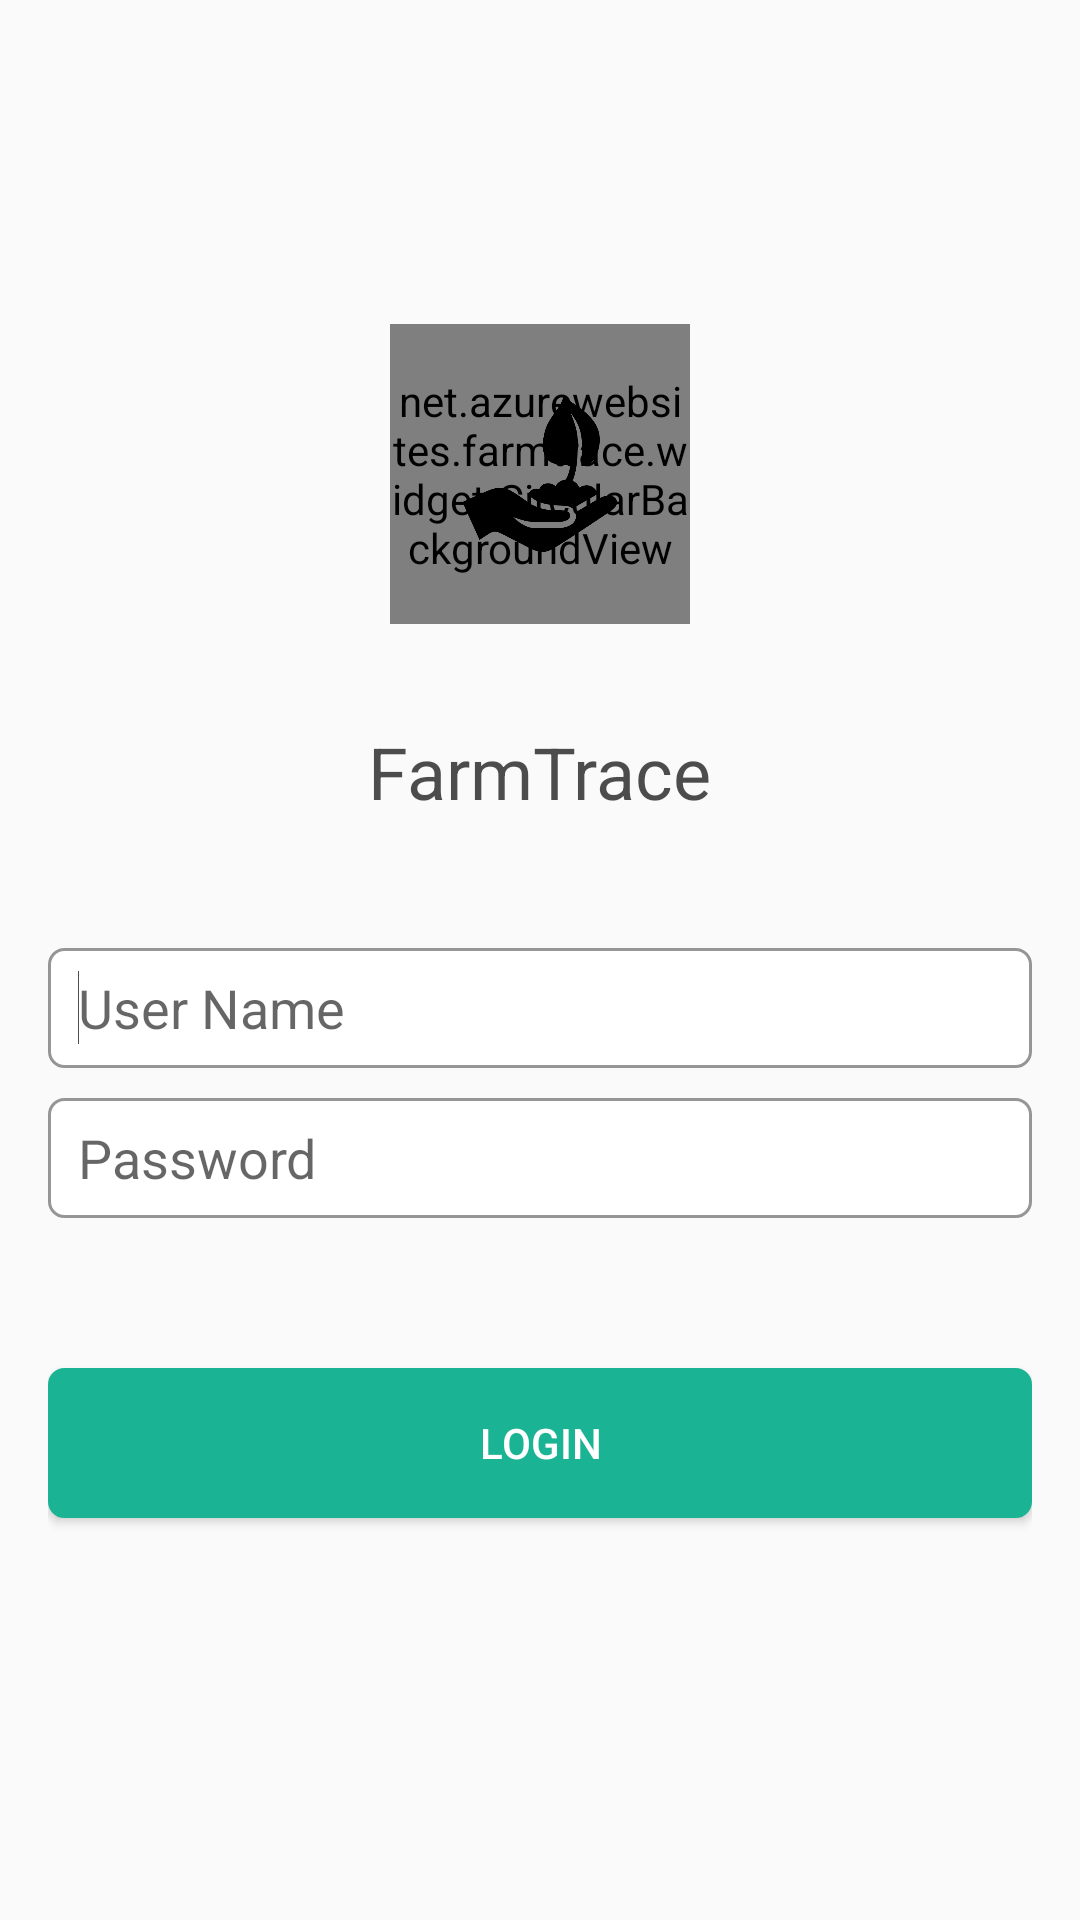

Icons on this 1080 x 1920 Android screen, each with the point to tap as point (x, y):
hand planting: point (540, 474)
